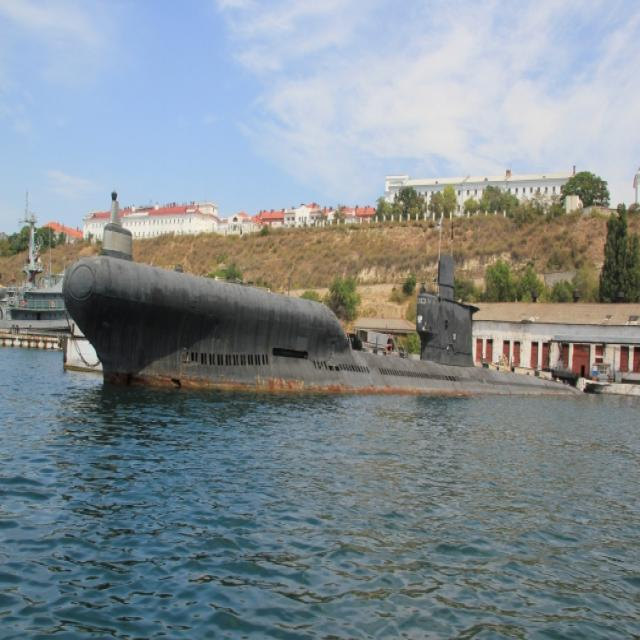submarine: (60, 223, 571, 401)
